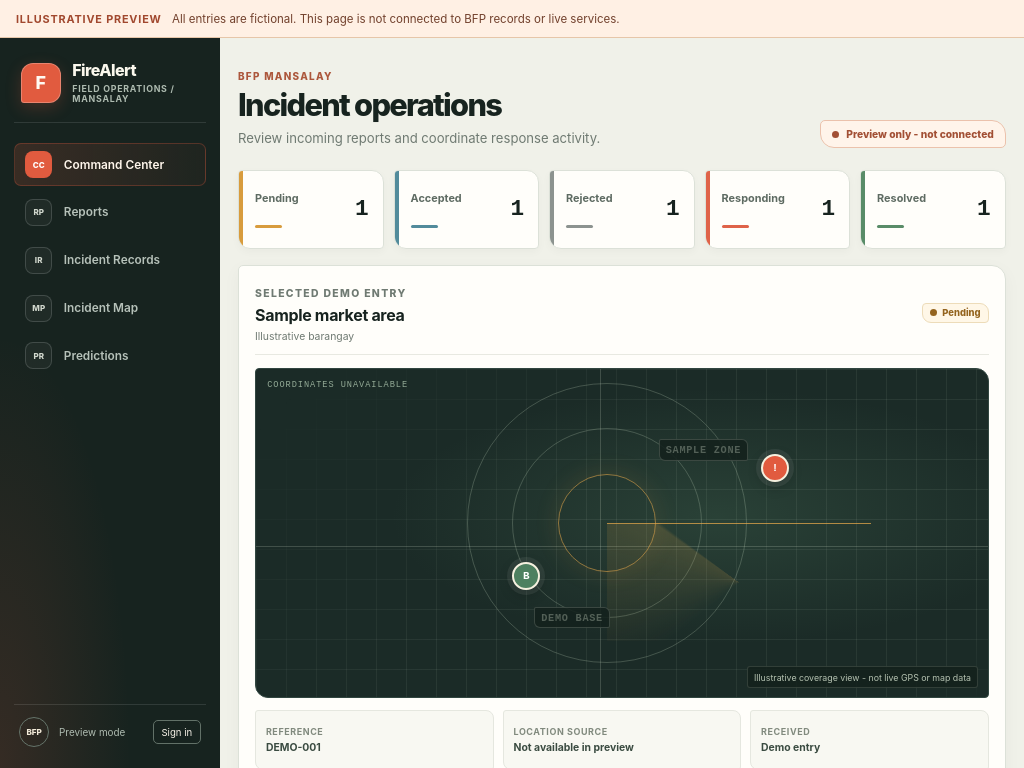
Test: does not present the preview login as functional authentication
Click the button "Sign in" at {"x": 177, "y": 732}, box [153,720,201,744]
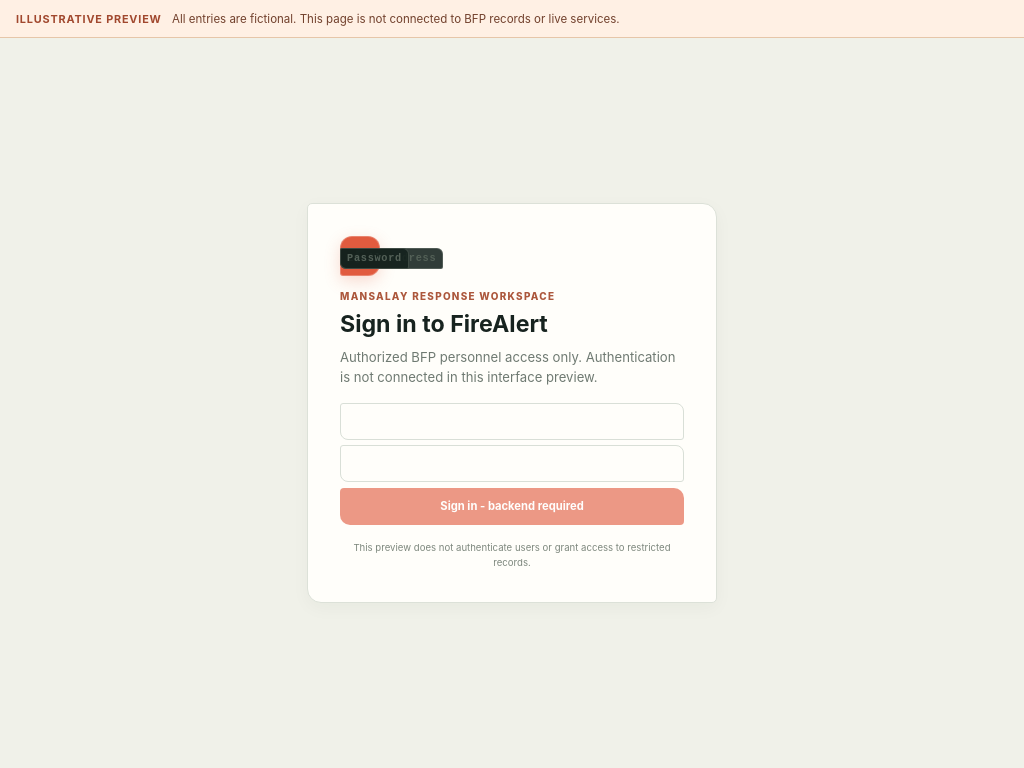
Expected: the heading "Sign in to FireAlert" is shown, [340,310,548,338]
Expected: the button "Sign in - backend required" is disabled, [340,488,684,525]
